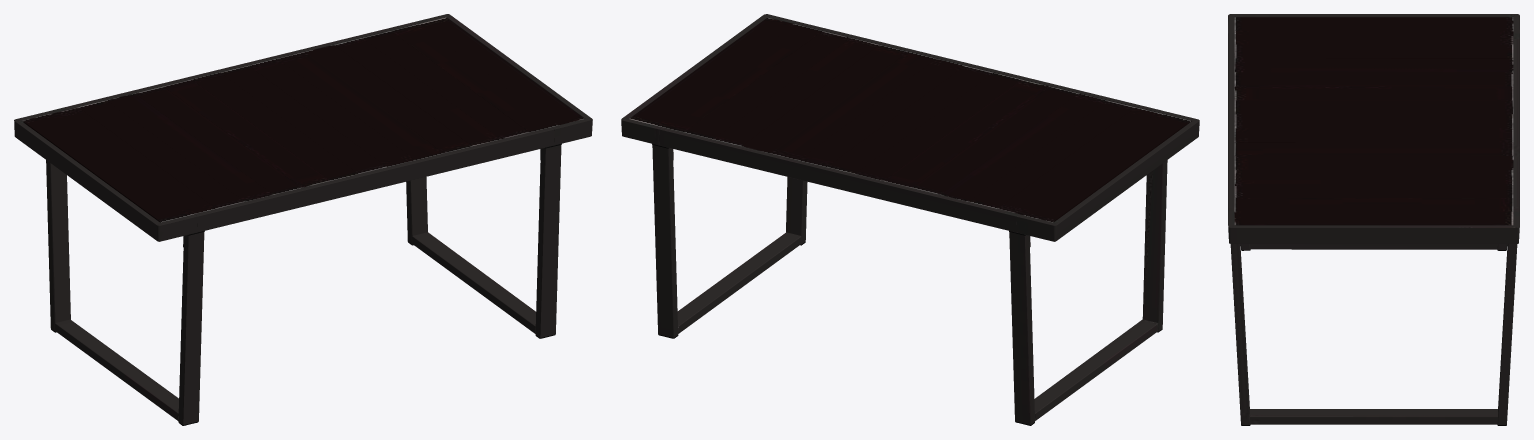
Rendered from 08 - VÄRMANSÖ Table, outdoor - dark grey 161x93 cm.glb.
The picture shows the model from 3 angles, left to right: view 1: azimuth 30°, elevation 25°; view 2: azimuth 150°, elevation 25°; view 3: azimuth 270°, elevation 25°; orthographic projection.
Visible parts, largest first — view 1: model; view 2: model; view 3: model.
Part boxes in pixels (box(x1,y1,x2,y2)): model: box(14, 14, 592, 425); model: box(621, 14, 1199, 425); model: box(1228, 14, 1519, 425).
Bounding box in the file's own units: 1.61 × 0.7523 × 0.9302.
Materials: 1 (1 with a texture image).
